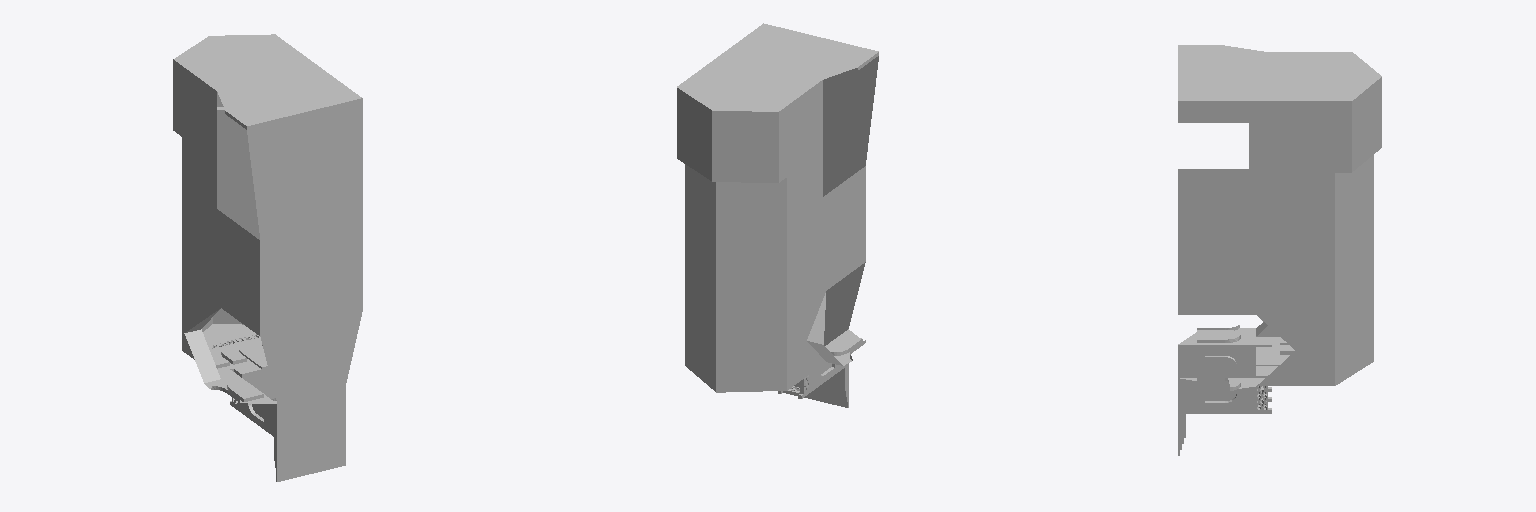
File: resursa 1trzecia.obj
3 views of the same model, side by side, from view 1: azimuth 30°, elevation 25°; view 2: azimuth 150°, elevation 25°; view 3: azimuth 270°, elevation 25° (orthographic).
Parts seen in each view (by area): view 1: Resursa_obj_0; view 2: Resursa_obj_0; view 3: Resursa_obj_0.
Boxes of the visible parts, x1,y1,x2,y2 form: Resursa_obj_0: [173, 34, 362, 481]; Resursa_obj_0: [677, 23, 878, 407]; Resursa_obj_0: [1178, 45, 1381, 455].
Bounding box in the file's own units: 0.0113 × 0.0301 × 0.0154.